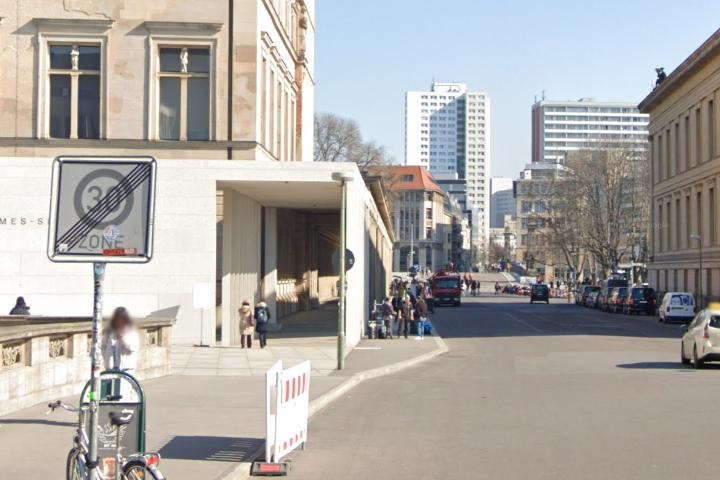traffic_sign: (72, 168, 135, 229)
vehicle: (654, 287, 700, 324), (425, 272, 467, 310), (623, 283, 657, 317), (526, 282, 552, 304)
